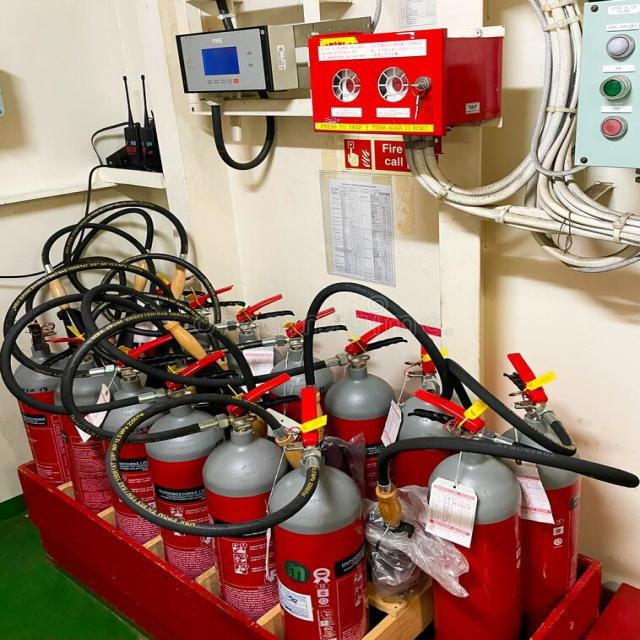fire_extinguisher: (102, 383, 378, 640), (367, 387, 639, 639), (434, 351, 588, 639), (306, 308, 411, 614), (205, 359, 294, 634), (85, 331, 189, 564), (143, 348, 239, 600), (39, 322, 137, 540), (17, 309, 79, 550)
